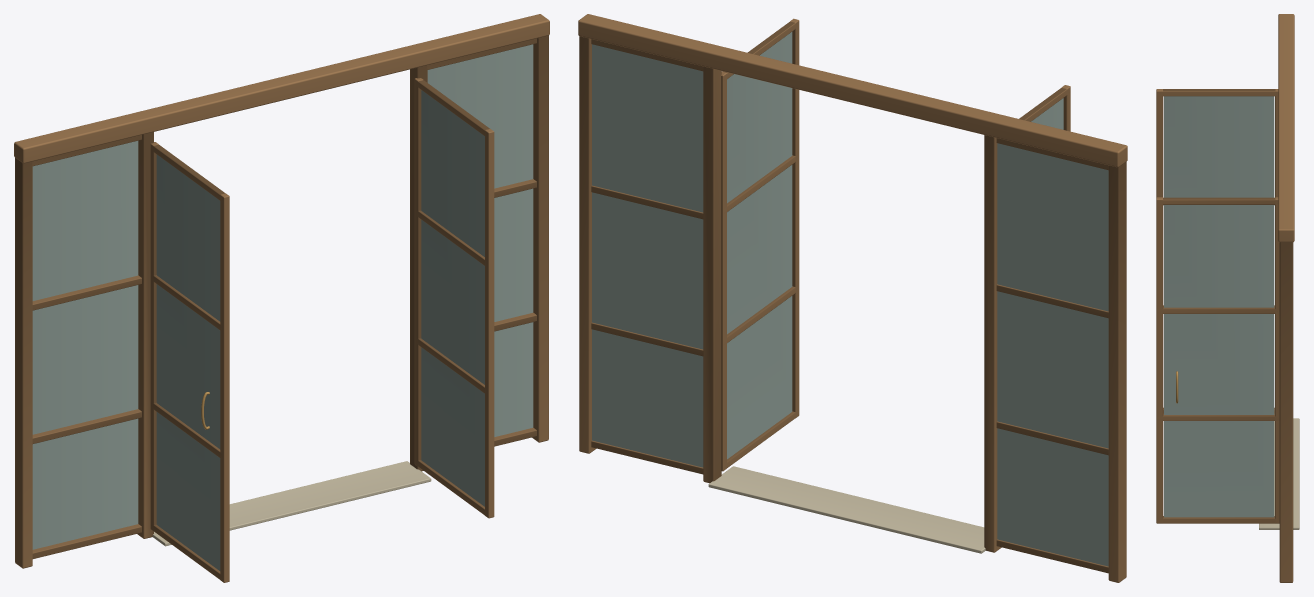
File: gardenentry.glb
The picture shows the model from 3 angles, left to right: view 1: azimuth 30°, elevation 25°; view 2: azimuth 150°, elevation 25°; view 3: azimuth 270°, elevation 25°; orthographic projection. The views are drawn at different scales.
Visible parts, largest first — view 1: Atelier_Gardenentry; view 2: Atelier_Gardenentry; view 3: Atelier_Gardenentry.
Part boxes in pixels (x1=…): Atelier_Gardenentry: x1=14, y1=14, x2=549, y2=582; Atelier_Gardenentry: x1=578, y1=14, x2=1127, y2=582; Atelier_Gardenentry: x1=1156, y1=14, x2=1299, y2=582.
Size of the model in its own units: 5.66 by 4.32 by 1.58.
